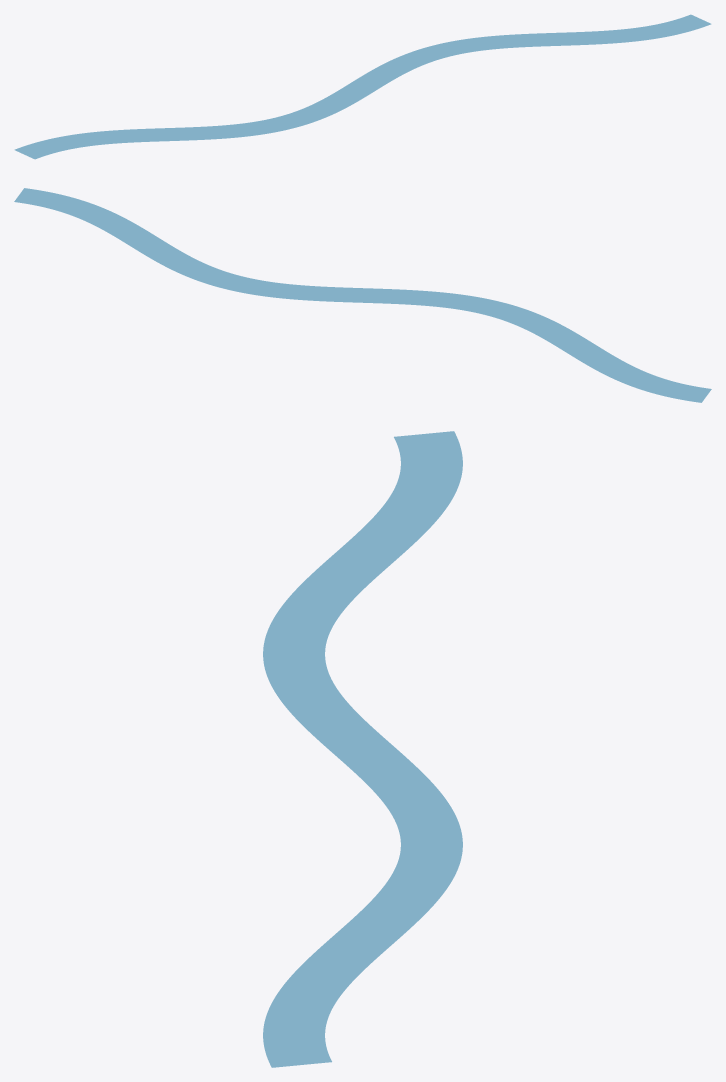
Rendered from seine.glb.
3 views of the same model, one above another, from view 1: azimuth 30°, elevation 25°; view 2: azimuth 150°, elevation 25°; view 3: azimuth 270°, elevation 25° (orthographic). The views are drawn at different scales.
Parts seen in each view (by area): view 1: Seine.001; view 2: Seine.001; view 3: Seine.001.
Boxes of the visible parts, <box> form: Seine.001: <box>14,14,711,159</box>; Seine.001: <box>14,188,711,402</box>; Seine.001: <box>263,431,462,1067</box>.
Size of the model in its own units: 131 by 0 by 17.4.
